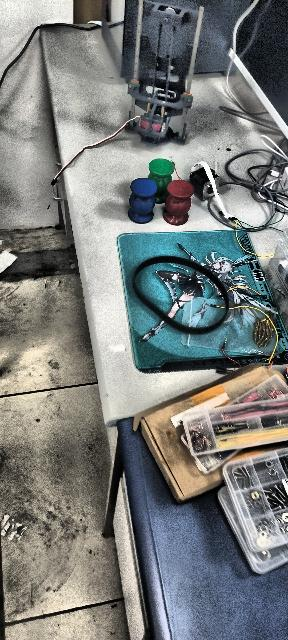blue: (127, 177, 157, 223)
green: (147, 158, 176, 206)
red: (162, 180, 195, 226)
